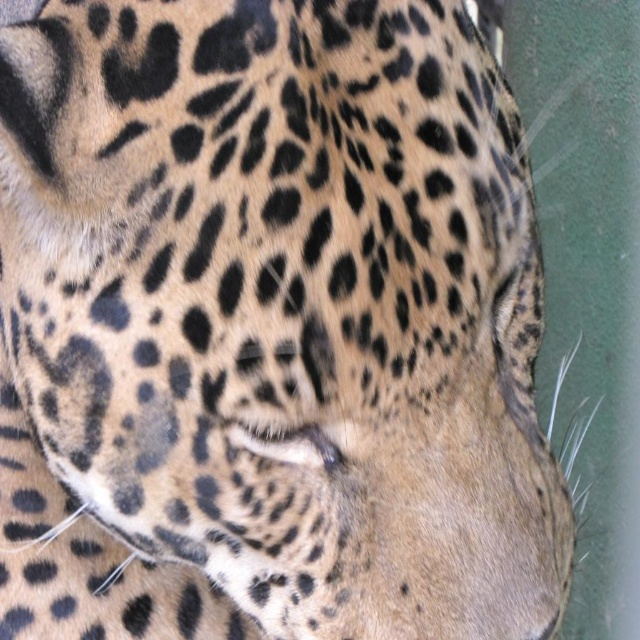Leopard: (0, 0, 634, 639)
